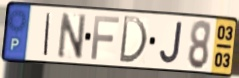8: (187, 18, 212, 71)
D: (118, 14, 150, 65)
F: (90, 14, 121, 61)
I: (42, 11, 52, 58)
J: (158, 21, 185, 66)
N: (56, 11, 88, 60)
